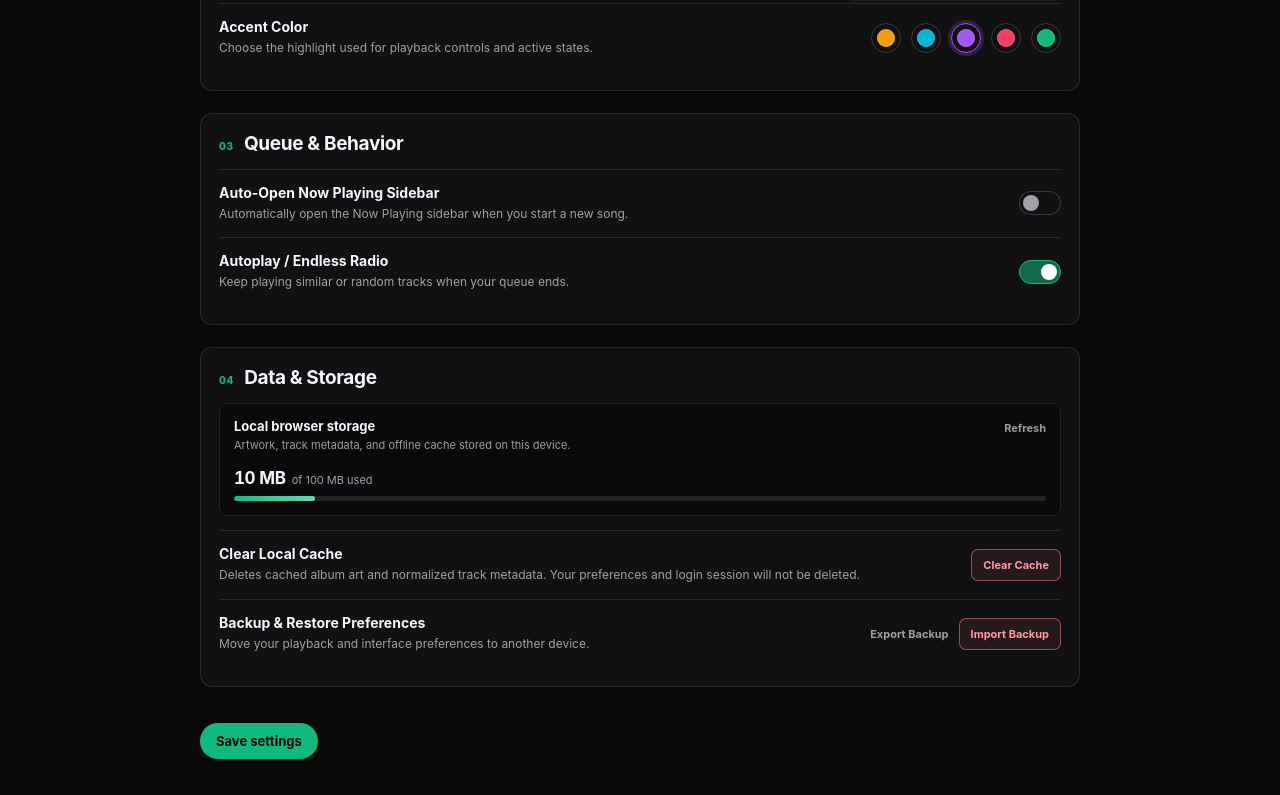
Test: shows storage usage and clears only the local media cache
The width and height of the screenshot is (1280, 795).
(page scrolled)
Step 1. Click the button "Clear Cache" → (1016, 565), box [971,549,1061,581]
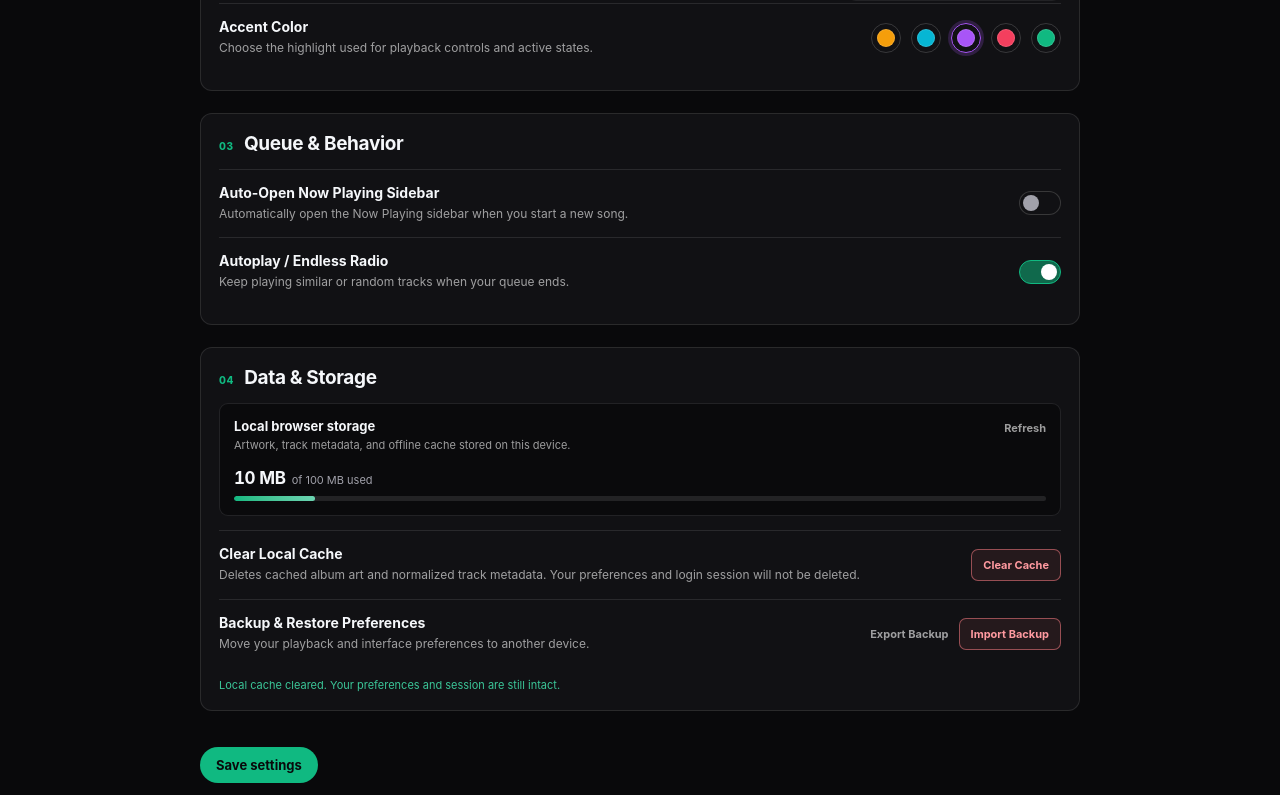
Check: the text "Local cache cleared. Your preferences and session are still intact." is shown, box [219,678,560,692]
